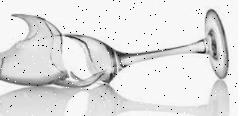glass: (0, 9, 228, 89)
